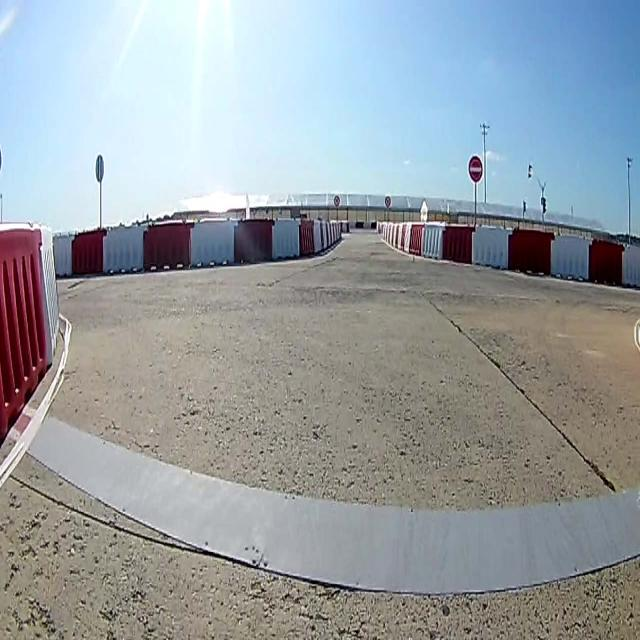girisyok: (467, 154, 485, 186)
